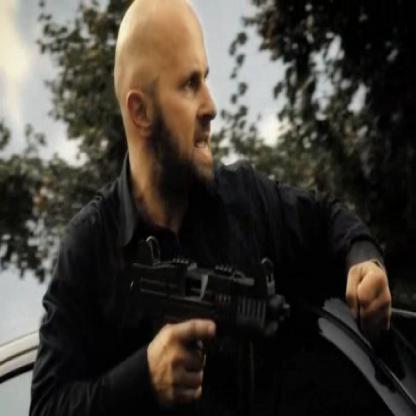Guns: (123, 231, 294, 365)
